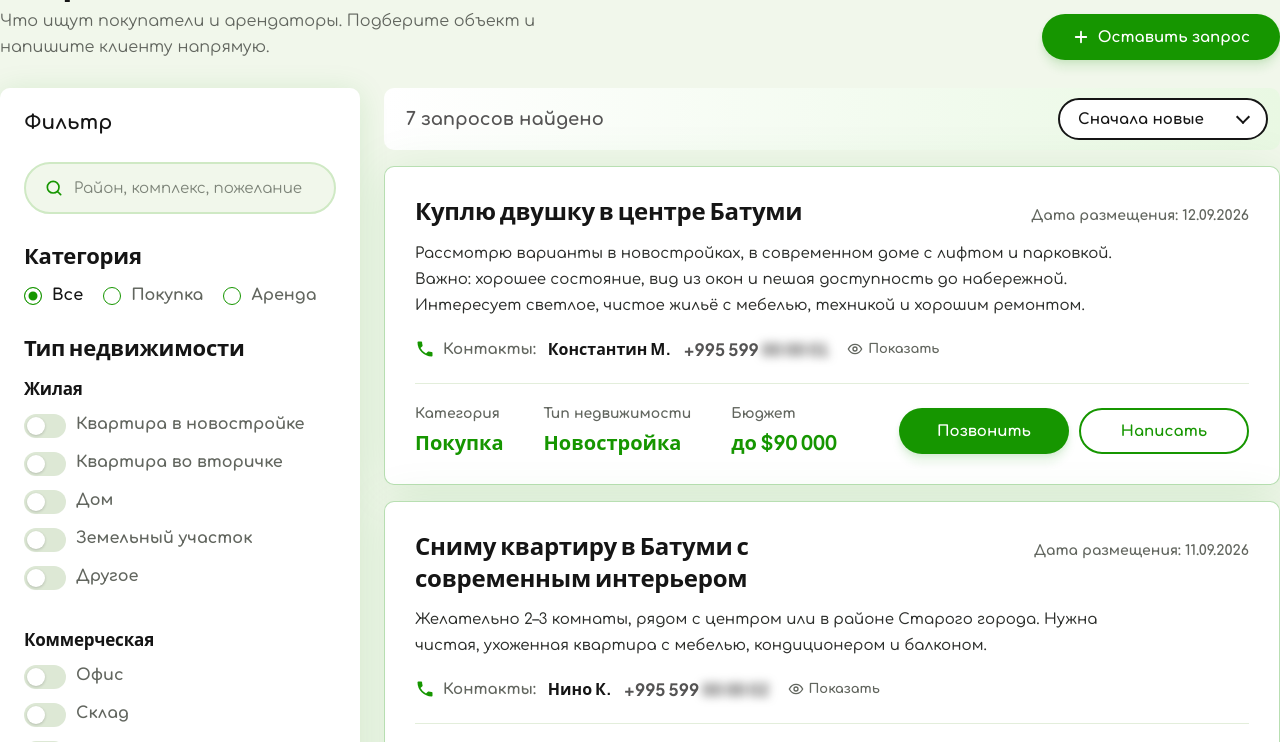
Test: Buyer & Tenant Requests Board Acceptance (MKT-SCR-016) › filters requests by deal type (Покупка vs Аренда)
Click the radio button labelled "Аренда" at (270, 296), box [223,285,316,306]
(page scrolled)
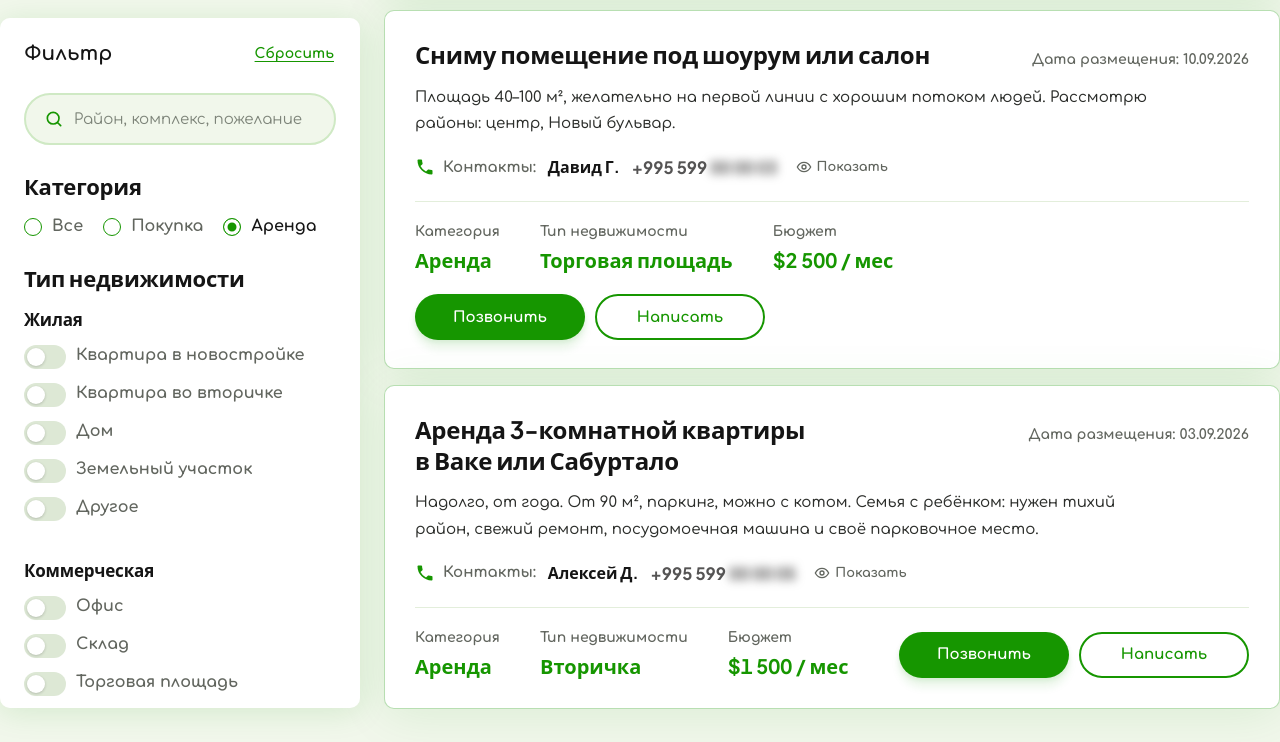
Expected: the text "Алексей Д." is shown, [548,562,638,584]
Now the text "Константин М." is gone
